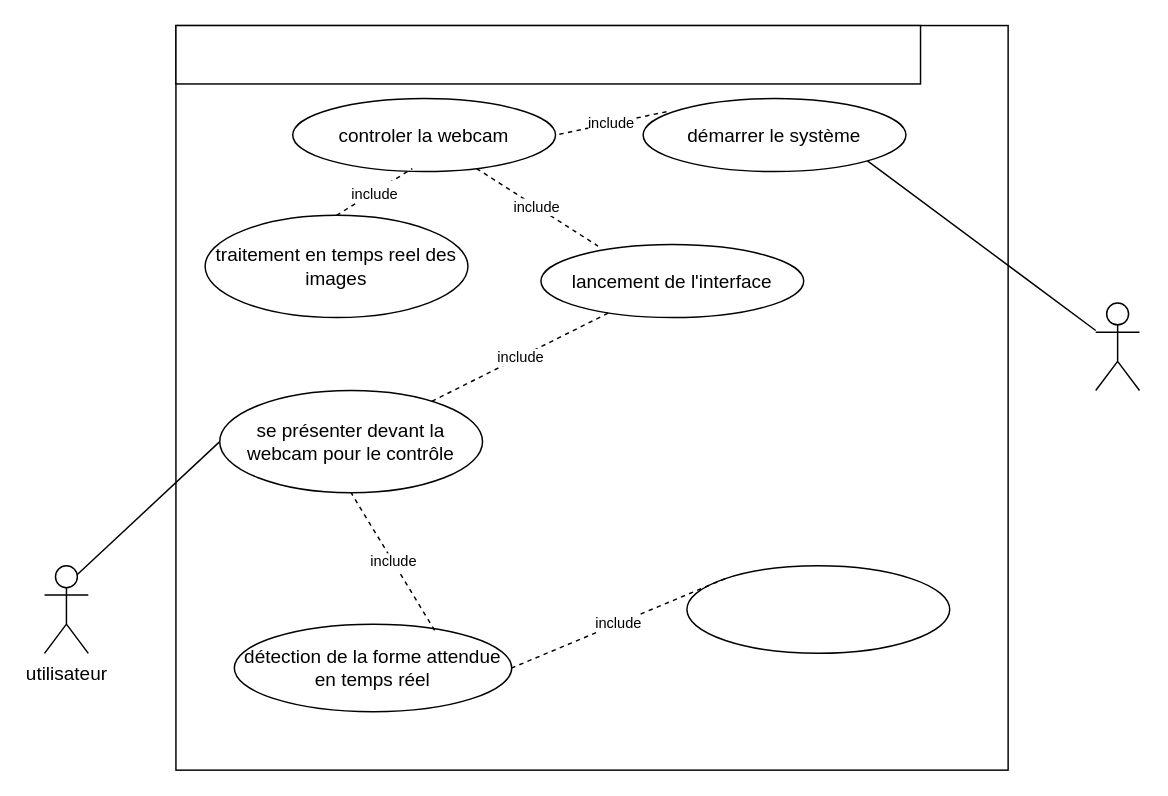
Image size: 1168x796. Some labels were removed from this diagram. The shapes that lost their labels are listed below. From the top down, each one's centre as x and y in pixels, then its label:
(x=547, y=54): Système de reconnaissance des formes
(x=1117, y=346): admin
(x=817, y=608): affichage du taux de précision
